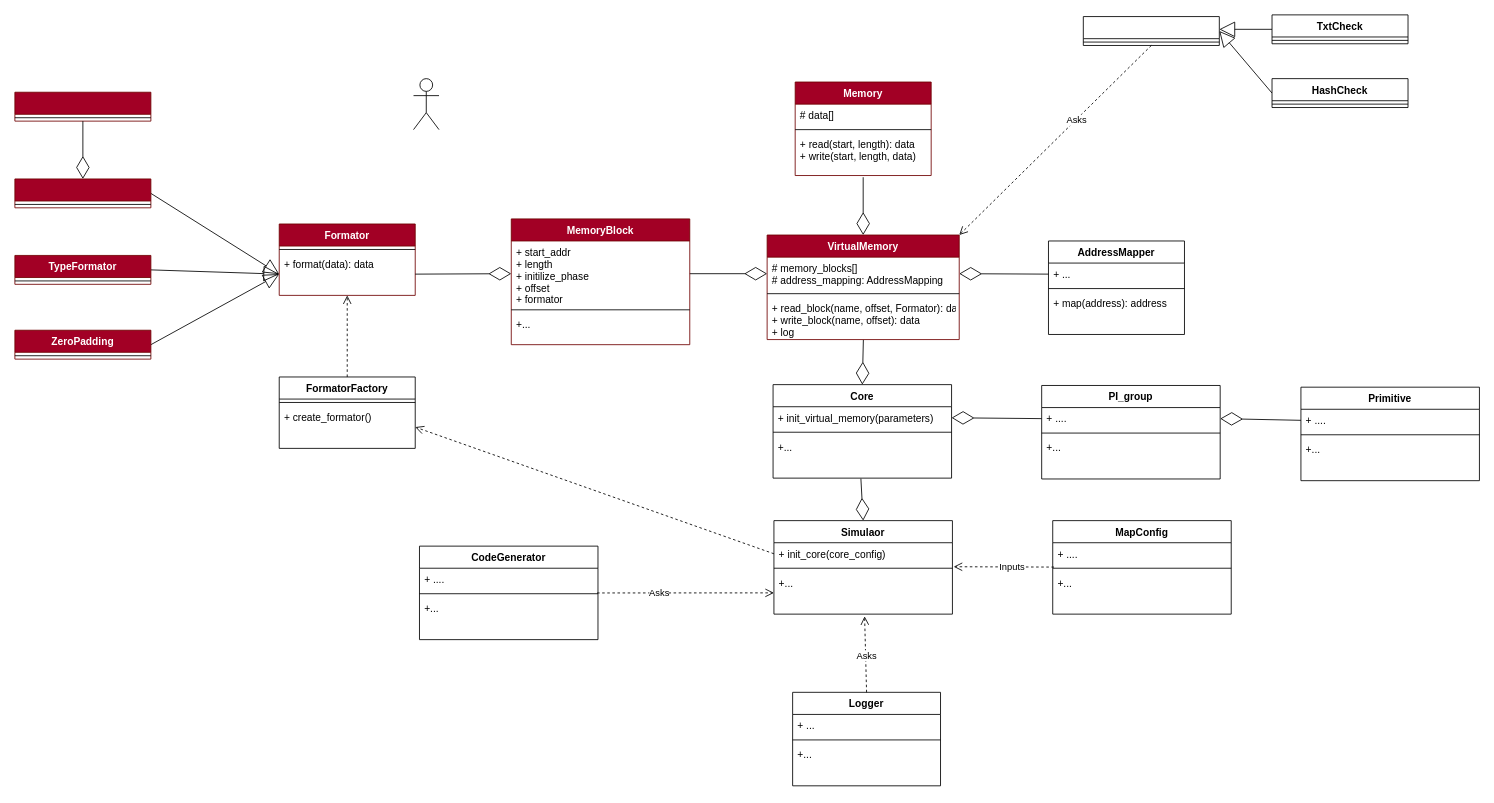
Image size: 1494x803. Some labels were removed from this diagram. Each missing label, with the centre of its shape:
ResultCheck: (x=1150, y=30)
StorageFormator: (x=82, y=193)
StorageMode: (x=82, y=106)
少宇: (x=426, y=104)
